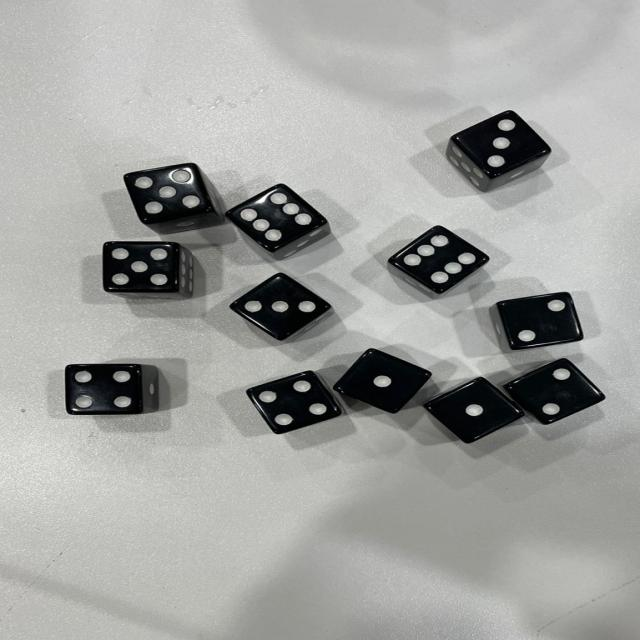DICE2: (500, 287, 623, 352), (530, 359, 638, 432), (452, 387, 520, 468), (347, 344, 405, 398)
DICE3: (472, 90, 567, 179), (238, 283, 349, 330)
DICE4: (49, 359, 145, 422), (238, 372, 336, 428)
DICE5: (116, 155, 225, 221), (97, 234, 189, 288)
DICE6: (210, 165, 330, 241), (383, 220, 490, 293)
